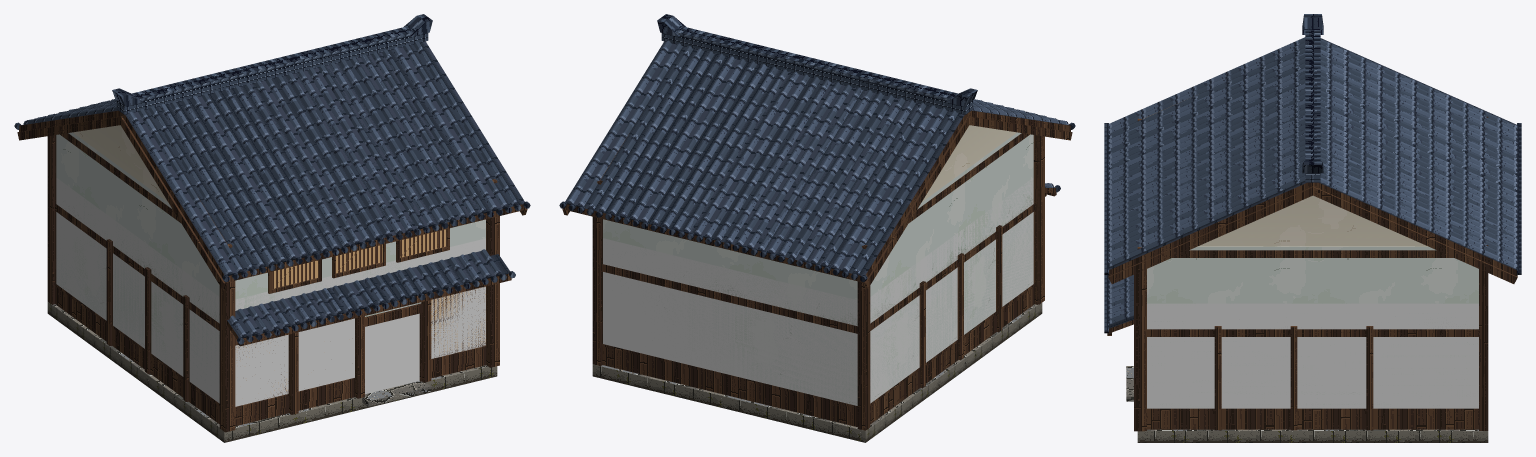
File: JP_Row_House_B_F.glb
The picture shows the model from 3 angles, left to right: view 1: azimuth 30°, elevation 25°; view 2: azimuth 150°, elevation 25°; view 3: azimuth 270°, elevation 25°; orthographic projection.
Visible parts, largest first — view 1: JP_Row_House_B_F, COL_JP_Row_House_B_F; view 2: JP_Row_House_B_F, COL_JP_Row_House_B_F; view 3: JP_Row_House_B_F, COL_JP_Row_House_B_F.
Part boxes in pixels (left/top/right/bottom): JP_Row_House_B_F: left=14, top=14, right=530, bottom=442; COL_JP_Row_House_B_F: left=56, top=178, right=485, bottom=406; JP_Row_House_B_F: left=559, top=14, right=1075, bottom=442; COL_JP_Row_House_B_F: left=603, top=178, right=1033, bottom=405; JP_Row_House_B_F: left=1104, top=14, right=1521, bottom=442; COL_JP_Row_House_B_F: left=1147, top=303, right=1478, bottom=408.
Bounding box in the file's own units: 9.42 × 8.36 × 11.
13 materials, 13 textured.
